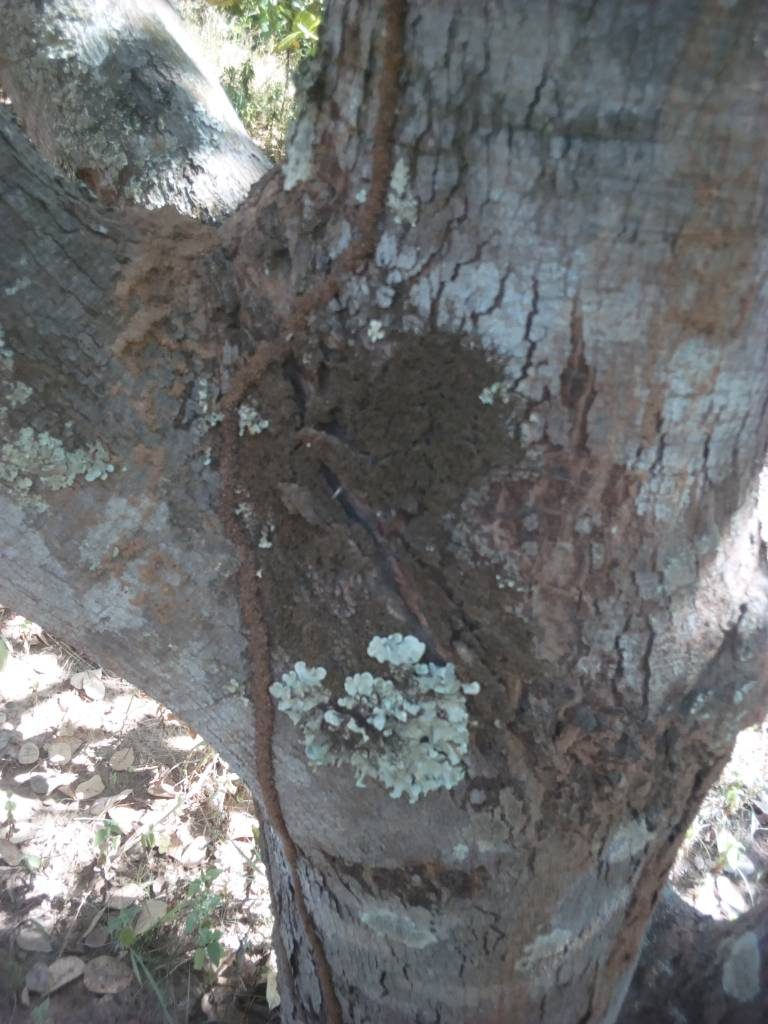Termites: (113, 203, 380, 644), (600, 738, 668, 1000)
